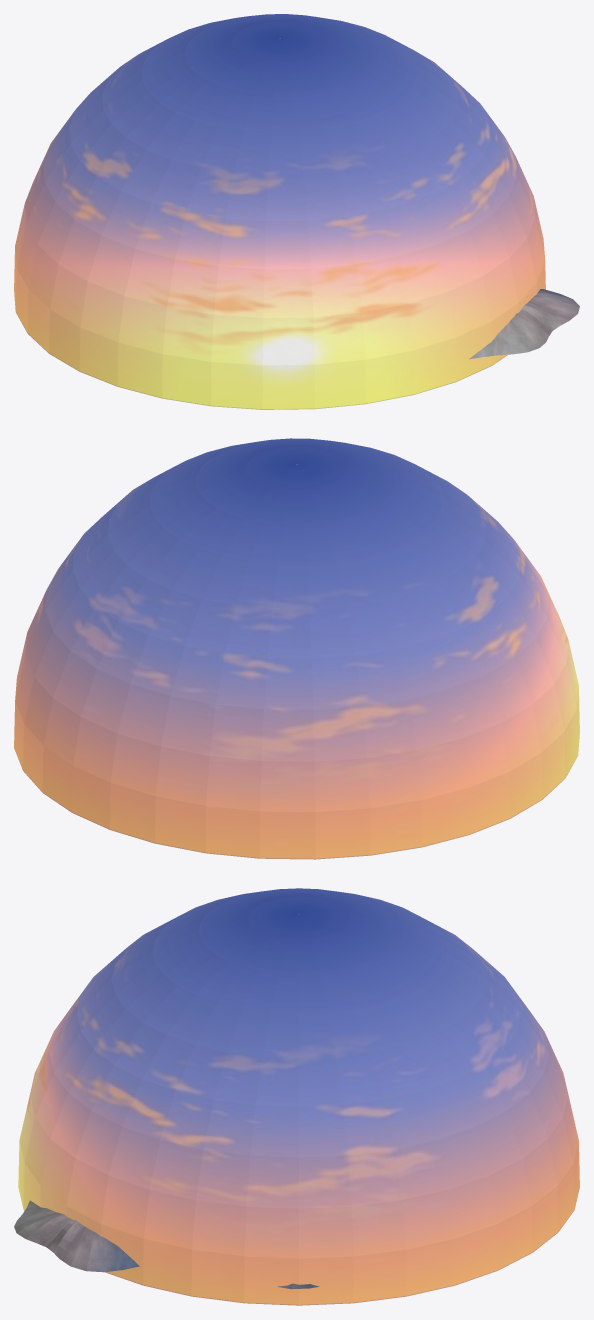
The model's file is lugar-puertoplata-ciudad.glb.
3 renders of one model, top to bottom at view 1: azimuth 30°, elevation 25°; view 2: azimuth 150°, elevation 25°; view 3: azimuth 270°, elevation 25°, orthographic. The views are drawn at different scales.
Visible parts, largest first — view 1: planoC, vertT; view 2: planoC; view 3: planoC, vertT.
Part boxes in pixels (left/top/right/bottom): planoC: left=14, top=14, right=545, bottom=409; vertT: left=469, top=289, right=579, bottom=359; planoC: left=14, top=438, right=579, bottom=859; planoC: left=18, top=888, right=579, bottom=1305; vertT: left=14, top=1200, right=319, bottom=1289.
Bounding box in the file's own units: 6622 × 3530 × 6635.
9 materials, 8 textured.
